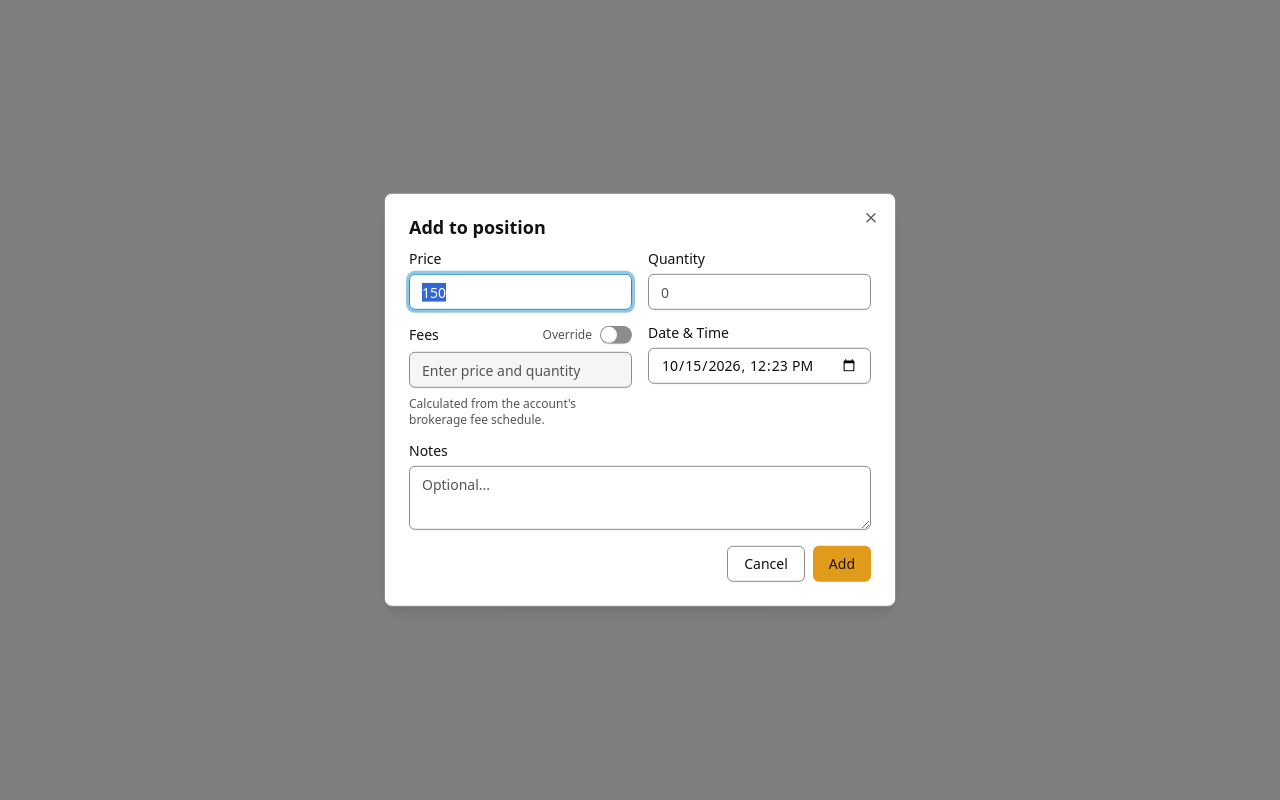
Test case: FillDialog — brokerage fee preview › updates the preview as price and quantity change
Type "1000" into the field labelled "Quantity" at (760, 292), box [648,274,871,310]
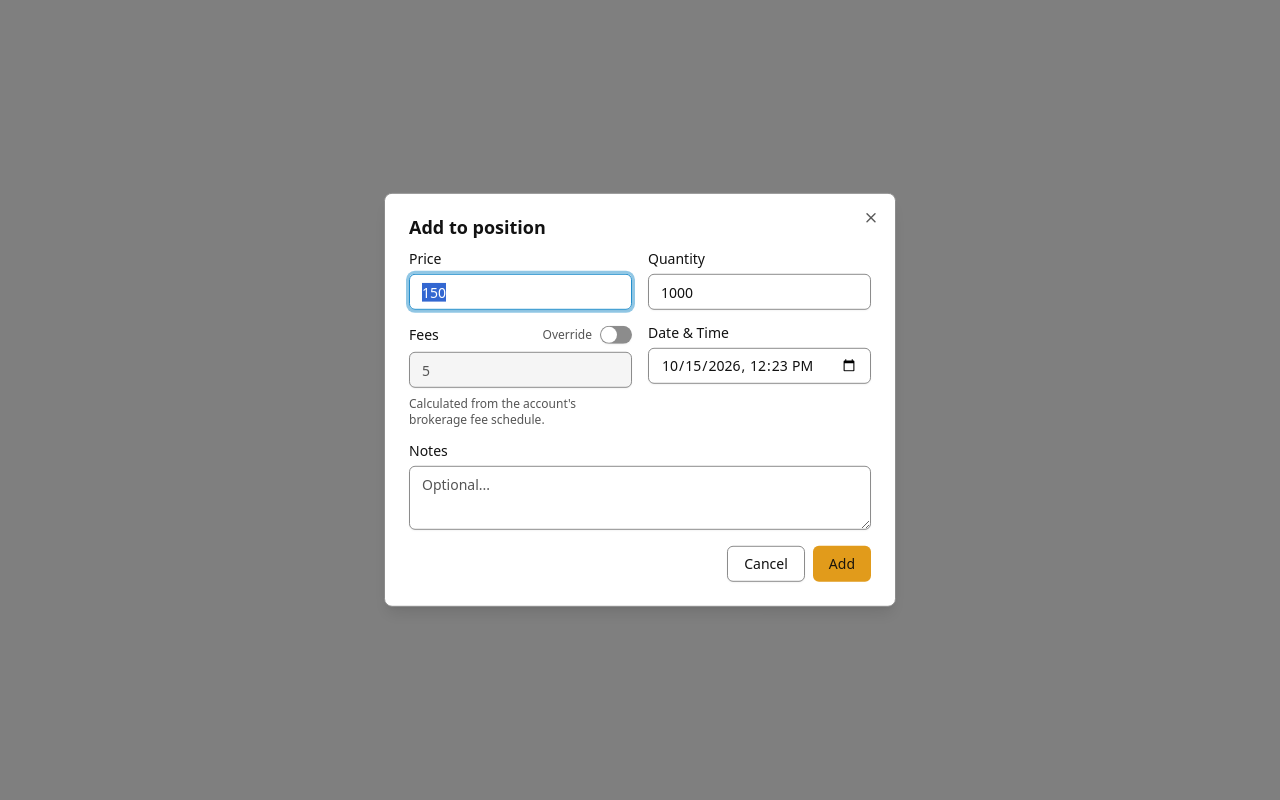
Result: the field labelled "Fees" holds "5" at [409,352,632,388]
Replace the text in the field labelled "Quantity" with "4000" at (760, 292), box [648,274,871,310]
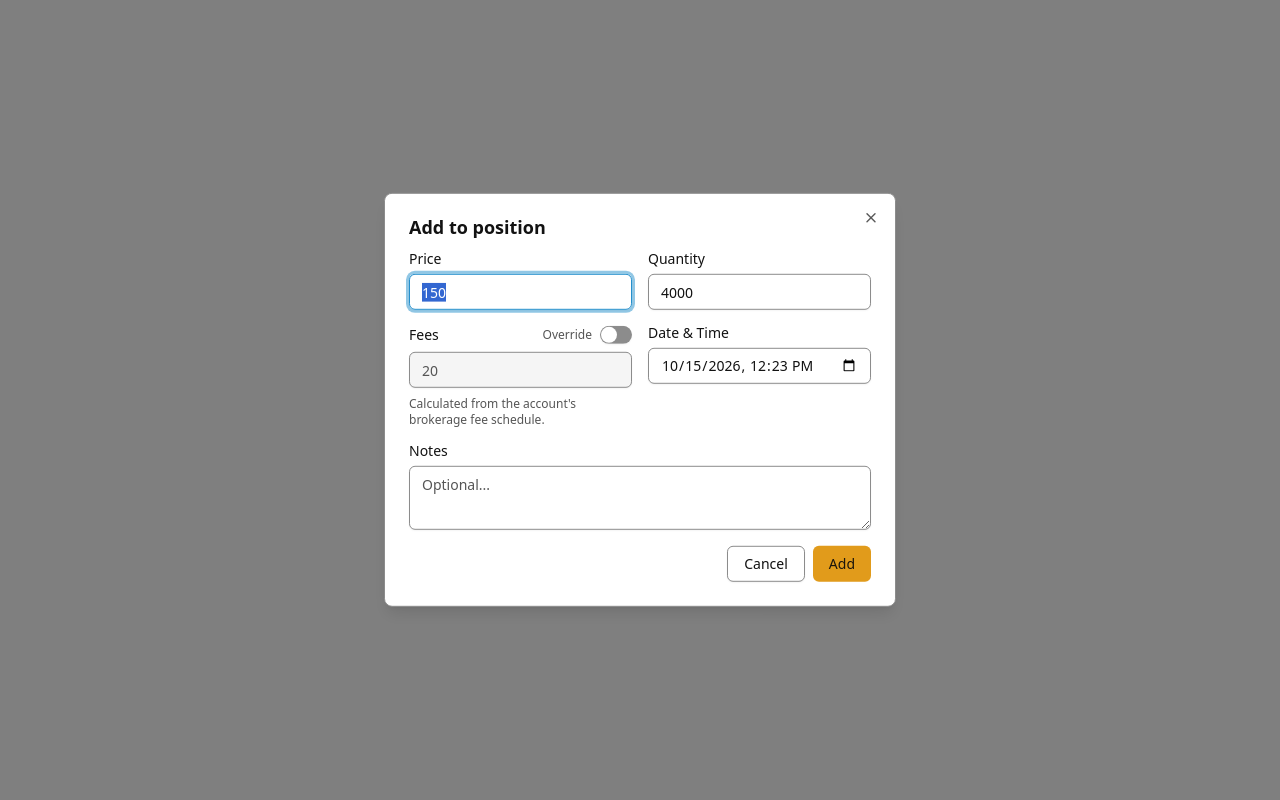
Result: the field labelled "Fees" holds "20" at [409,352,632,388]
